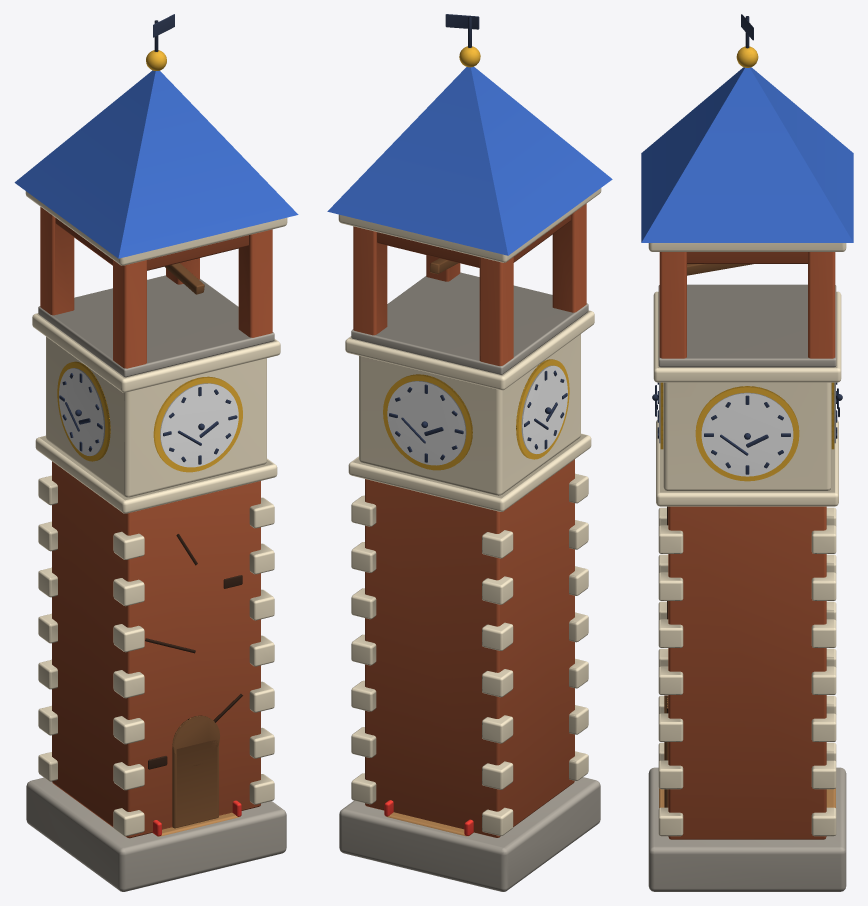
The model's file is cap2.glb.
3 views of the same model, side by side, from view 1: azimuth 30°, elevation 25°; view 2: azimuth 150°, elevation 25°; view 3: azimuth 270°, elevation 25° (orthographic). The views are drawn at different scales.
Visible parts, largest first — view 1: fuste, tejado, zocalo, reloj_cuerpo, suelo_camp, esfera, cornisa1, cornisa2, puerta, pilar, pilar.002, pilar.001 (+20 smaller); view 2: fuste, tejado, zocalo, reloj_cuerpo, suelo_camp, esfera.002, cornisa1, cornisa2, pilar.001, pilar.003, pilar, esfera.003 (+18 smaller); view 3: fuste, tejado, zocalo, suelo_camp, reloj_cuerpo, esfera.001, cornisa2, cornisa1, pilar.002, pilar.003, esfera_b.001, cornisa3 (+15 smaller).
Boxes of the visible parts, <box> form: fuste: <box>52,461,260,838</box>; tejado: <box>14,70,298,258</box>; zocalo: <box>26,777,286,891</box>; reloj_cuerpo: <box>46,336,266,497</box>; suelo_camp: <box>38,275,274,377</box>; esfera: <box>160,383,238,467</box>; cornisa1: <box>35,435,277,513</box>; cornisa2: <box>32,313,280,392</box>; puerta: <box>172,740,218,828</box>; pilar: <box>113,260,146,368</box>; pilar.002: <box>238,229,272,337</box>; pilar.001: <box>40,207,74,315</box>; fuste: <box>365,459,574,837</box>; tejado: <box>327,66,612,255</box>; zocalo: <box>339,777,600,891</box>; reloj_cuerpo: <box>359,334,580,495</box>; suelo_camp: <box>351,272,588,374</box>; esfera.002: <box>387,381,466,465</box>; cornisa1: <box>348,433,591,511</box>; cornisa2: <box>345,310,594,390</box>; pilar.001: <box>479,257,513,365</box>; pilar.003: <box>353,226,387,335</box>; pilar: <box>552,203,586,312</box>; esfera.003: <box>521,365,567,453</box>; fuste: <box>668,506,826,839</box>; tejado: <box>641,67,853,242</box>; zocalo: <box>648,767,846,891</box>; suelo_camp: <box>658,284,836,367</box>; reloj_cuerpo: <box>663,382,831,490</box>; esfera.001: <box>701,392,793,476</box>; cornisa2: <box>653,291,841,382</box>; cornisa1: <box>656,420,838,506</box>; pilar.002: <box>659,252,686,358</box>; pilar.003: <box>808,252,835,358</box>; esfera_b.001: <box>695,386,799,481</box>; cornisa3: <box>648,243,846,251</box>.
Bounding box in the file's own units: 4.3 × 18.68 × 4.3.
